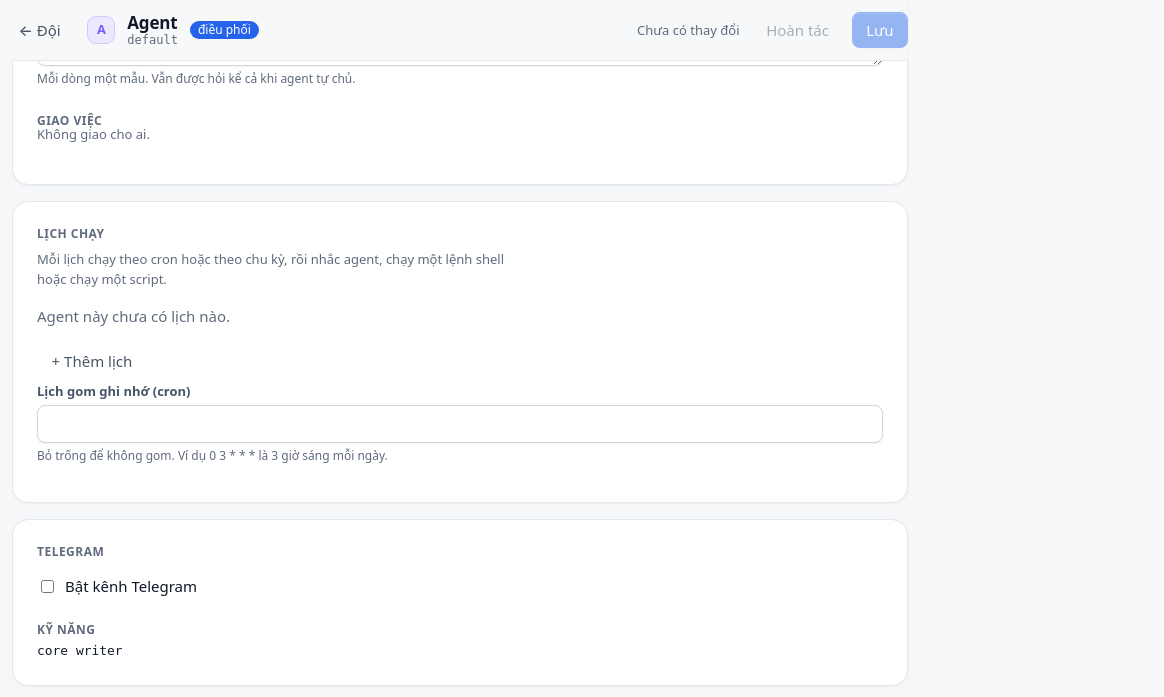
Test: the schedules part of the agent editor › says a saved schedule runs from now on, and asks for no restart
(page scrolled)
Click the button "+ Thêm lịch" at (92, 361), box [37,341,147,381]
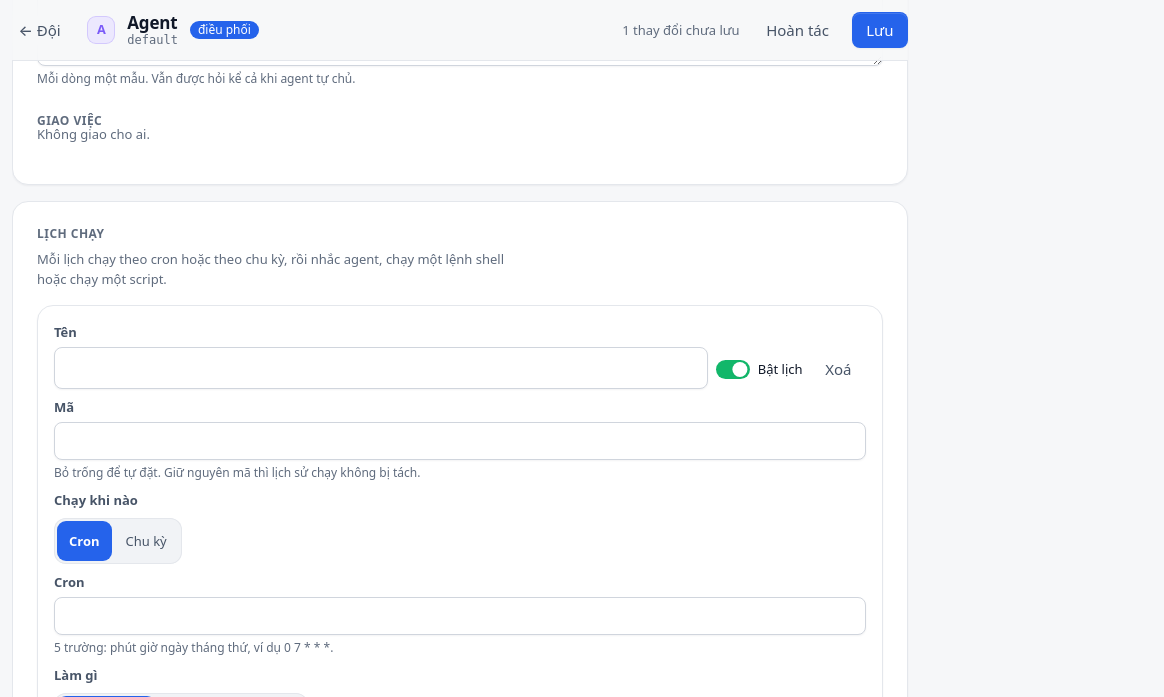
Type "0 7 * * *" into the field labelled "Cron" at (460, 616), box [54,597,866,635]
(page scrolled)
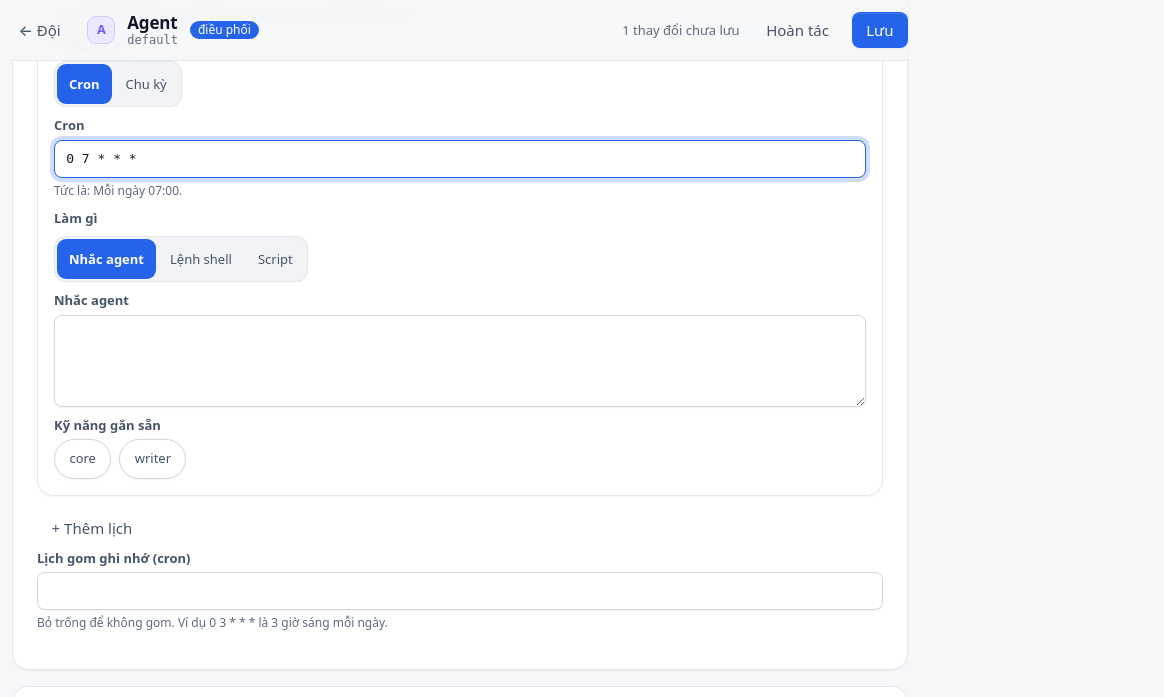
Type "Tóm tắt tin" into the text box labelled "Nhắc agent" at (460, 361), box [54,315,866,407]
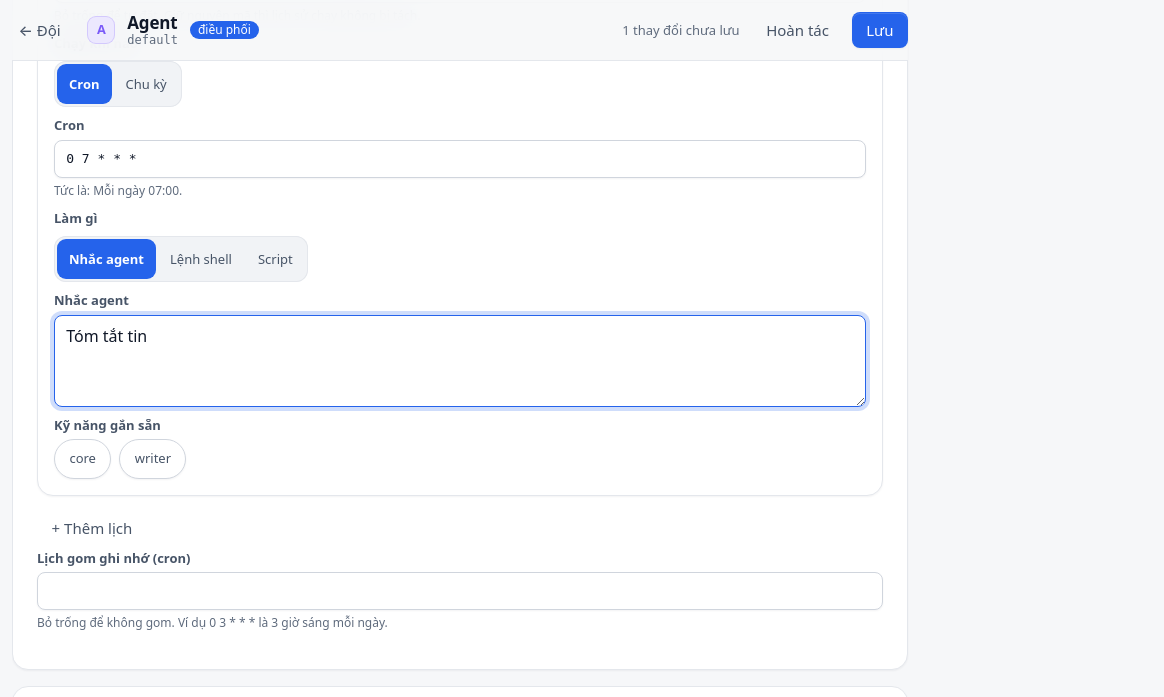
Click the button "Lưu" at (880, 30), box [852,12,908,48]
(page scrolled)
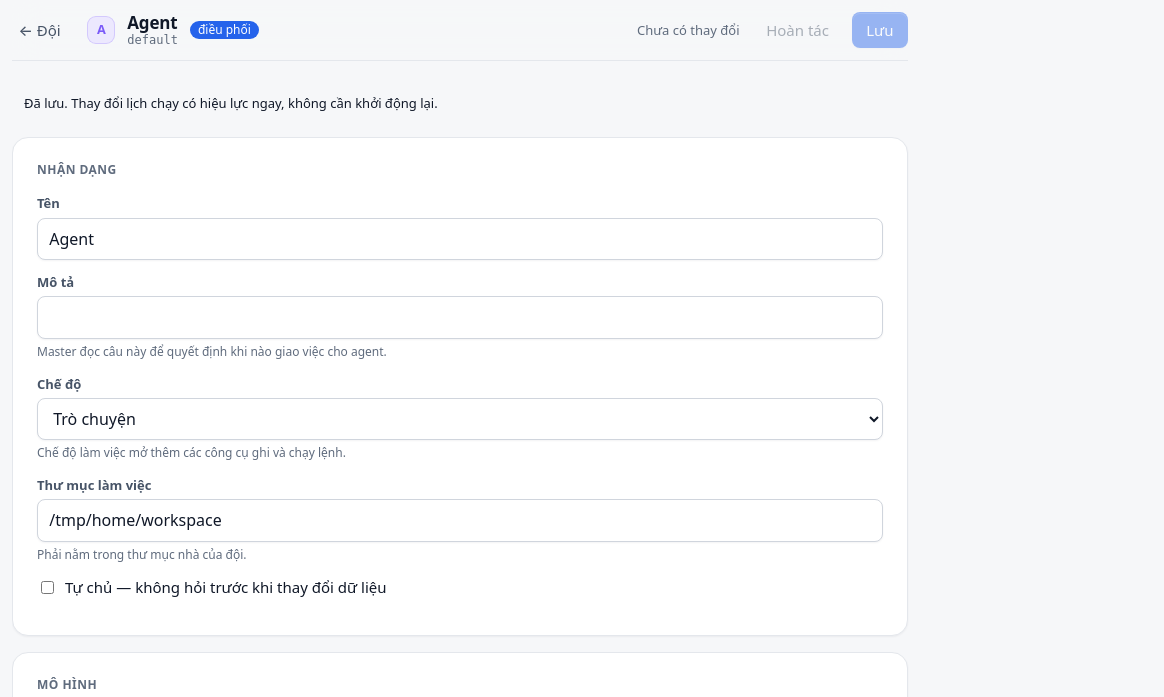
Check: the message with test id "schedule-live" reads "Đã lưu. Thay đổi lịch chạy có hiệu lực ngay, không cần khởi động lại.", box [24,94,438,112]
